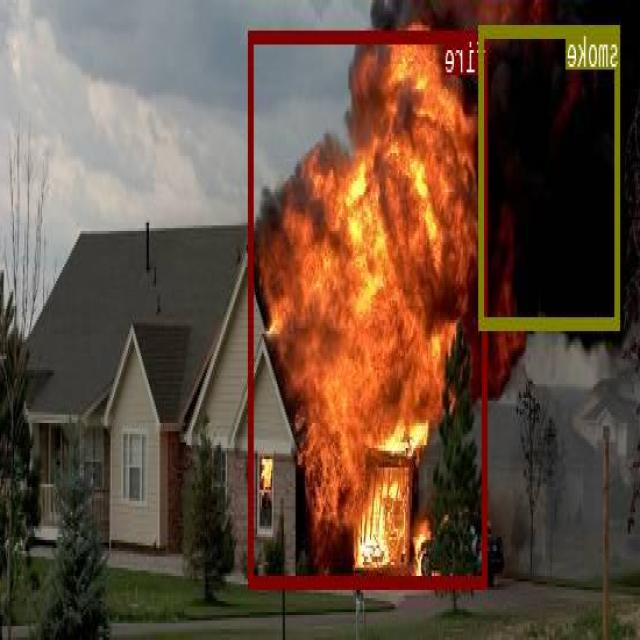fire: (250, 30, 488, 585)
smoke: (480, 25, 621, 328)
